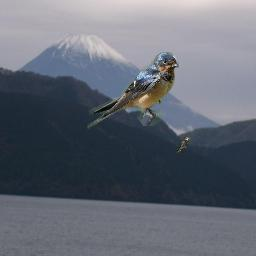Cuckoo: (176, 137, 190, 153)
Swallow: (87, 52, 179, 130)
